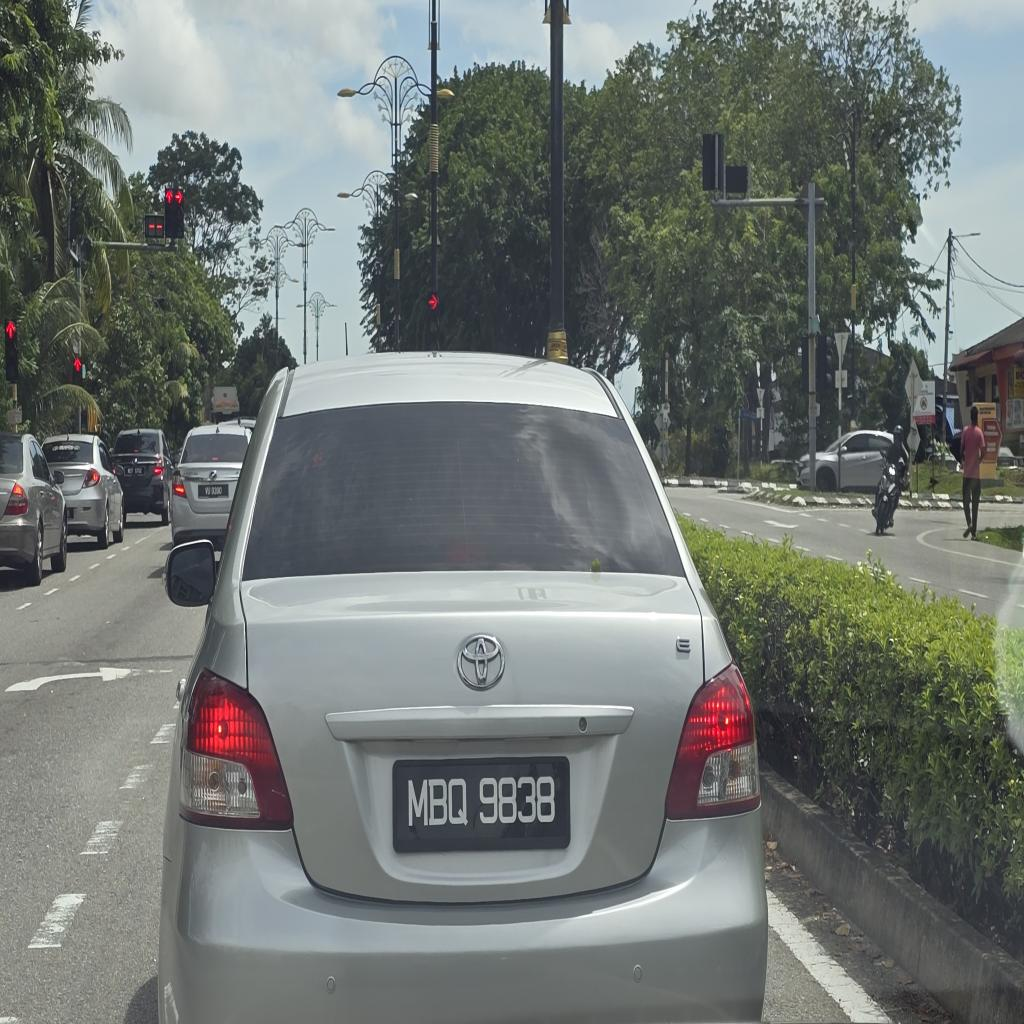car: (159, 353, 767, 1023)
car plate: (394, 758, 570, 852)
